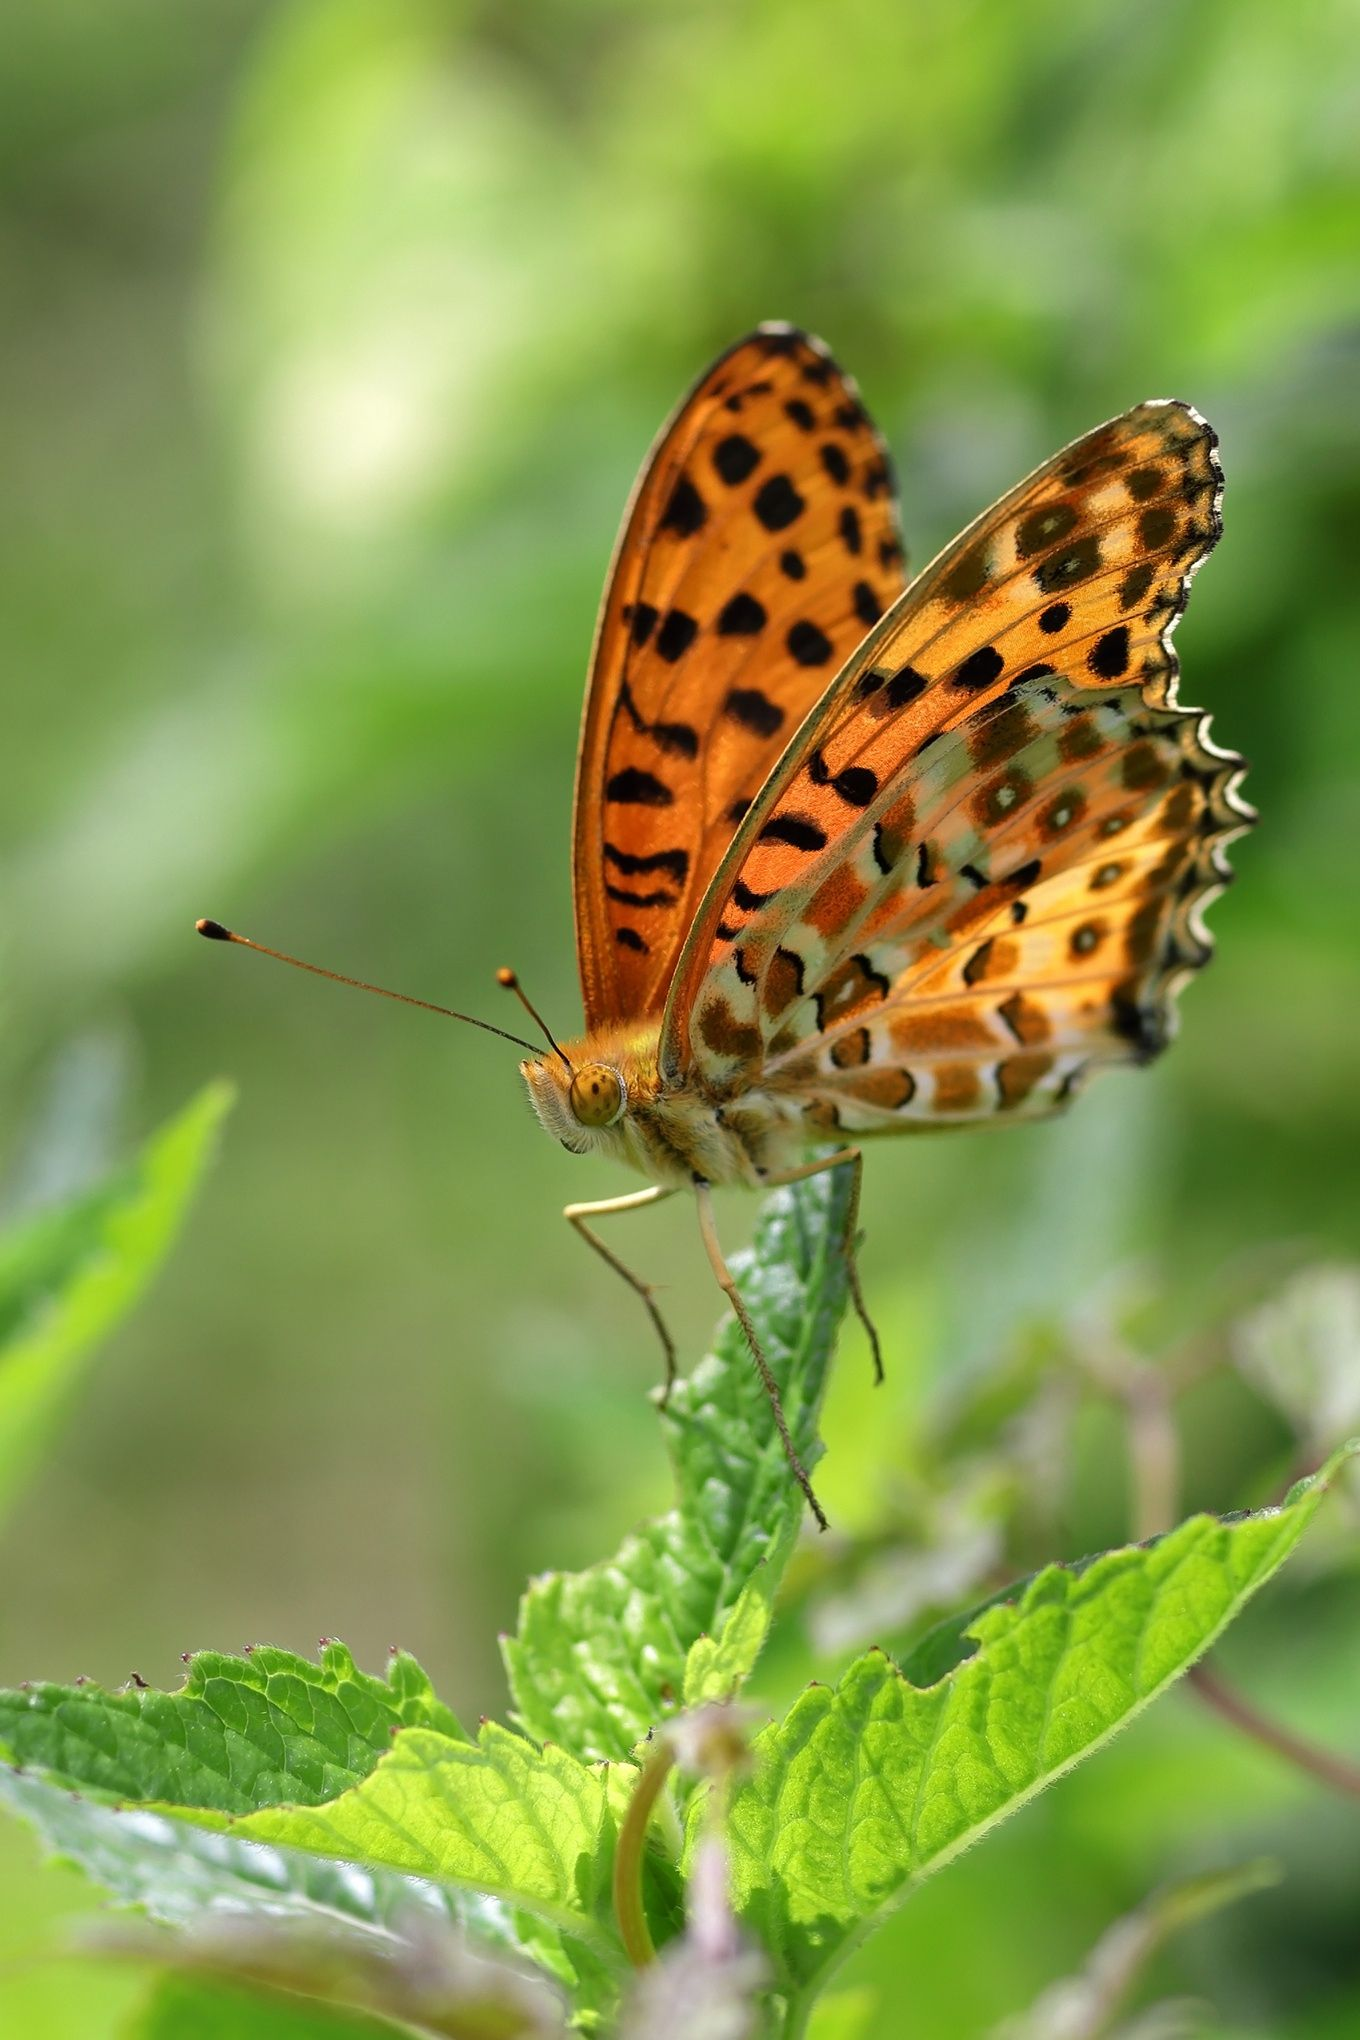Argyreus hyperbius: (190, 308, 1264, 1532)
butterfly: (191, 310, 1266, 1535)
